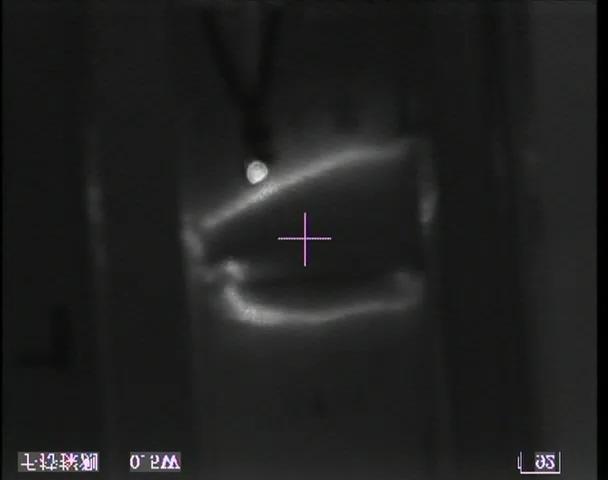my: (245, 157, 271, 185)
